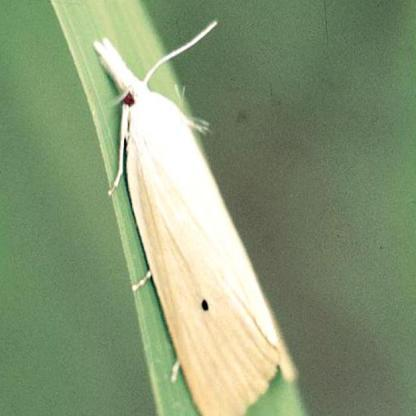stem-borer: (87, 31, 300, 416)
